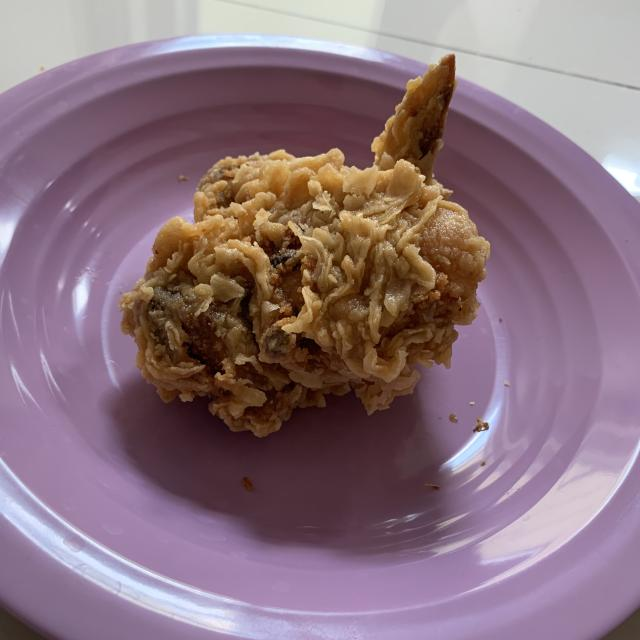Frango: (124, 49, 488, 440)
